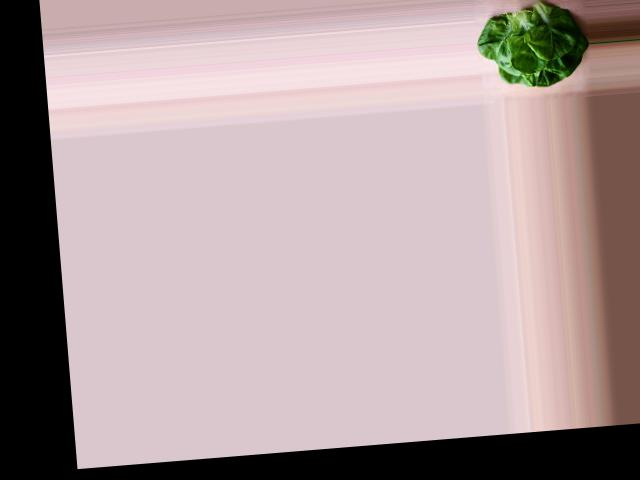lettuce: (477, 1, 589, 91)
